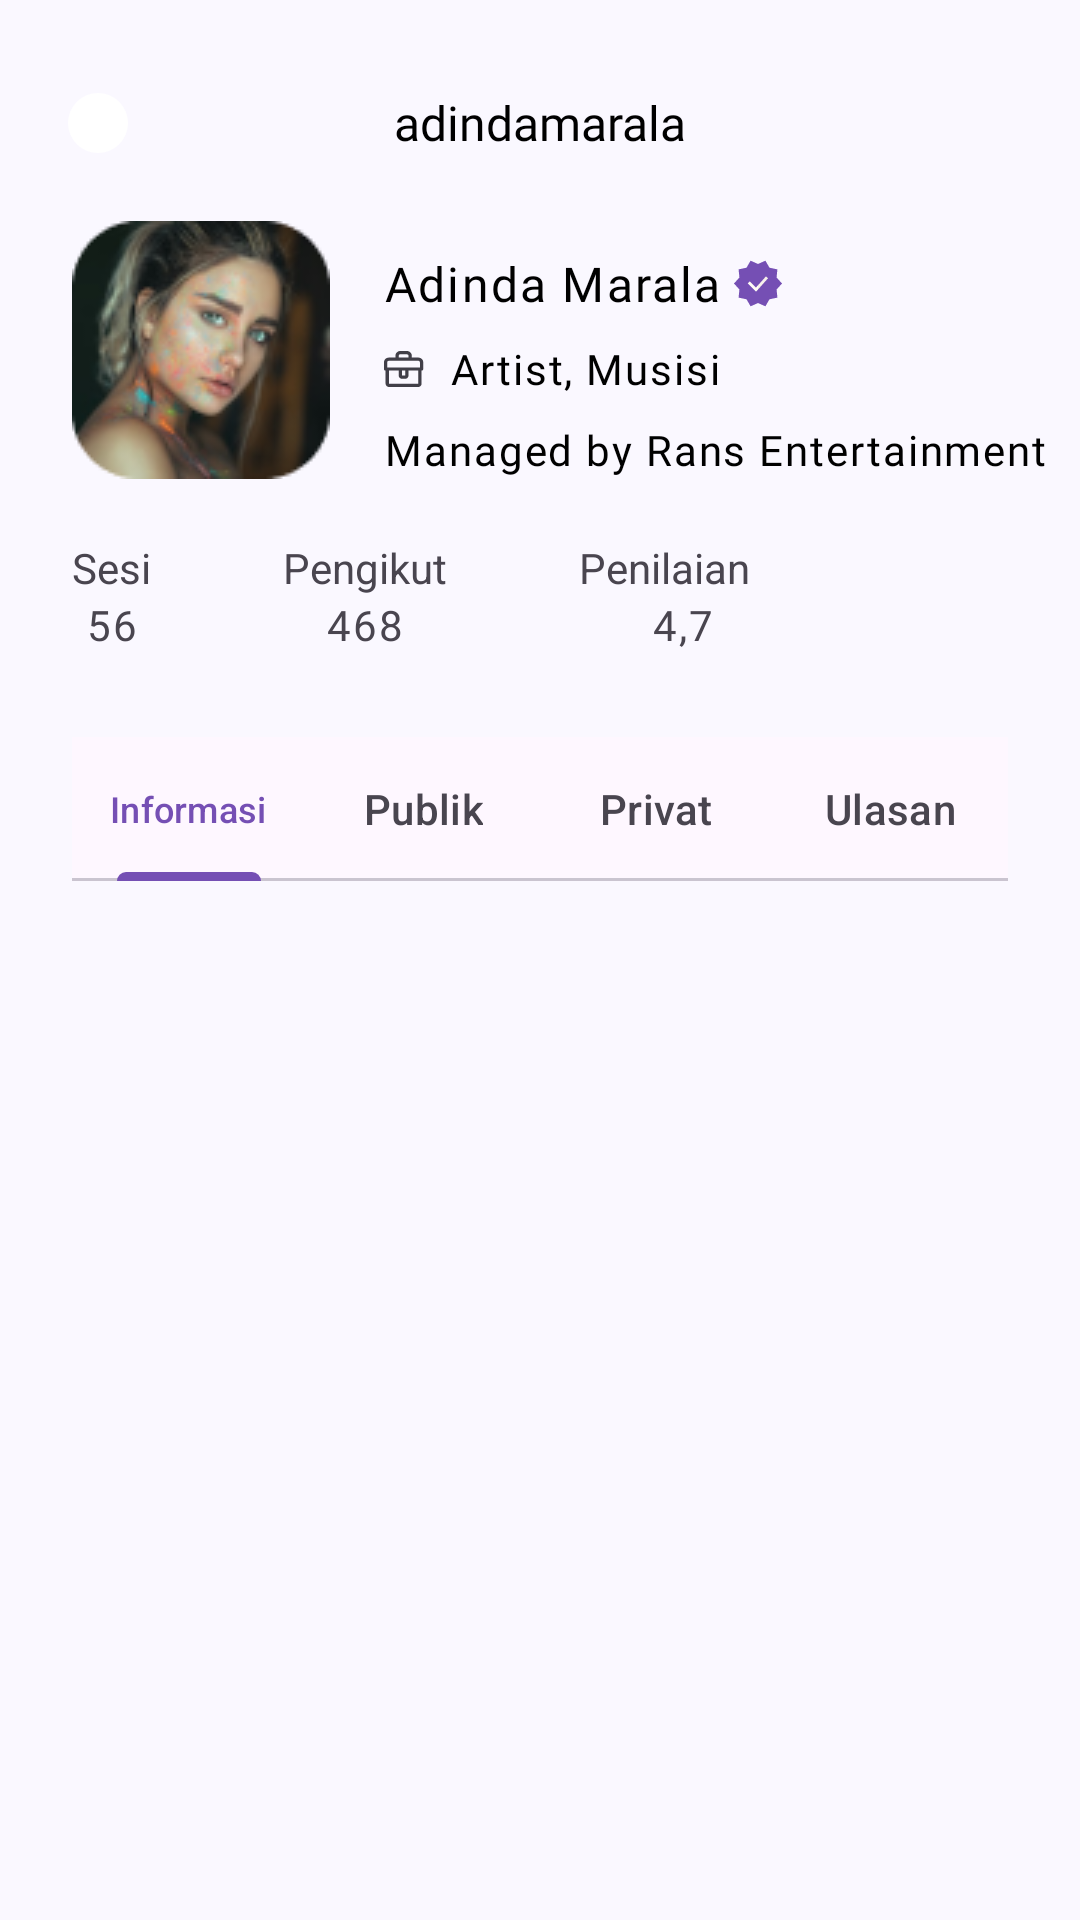

Icons on this 1080*1920 Android screen, each with its box as {"x1": x1, "y1": y1, "x2": x2, "y2": y2}:
check: {"x1": 734, "y1": 261, "x2": 782, "y2": 306}
job: {"x1": 384, "y1": 351, "x2": 424, "y2": 387}
kreator: {"x1": 72, "y1": 221, "x2": 330, "y2": 479}
